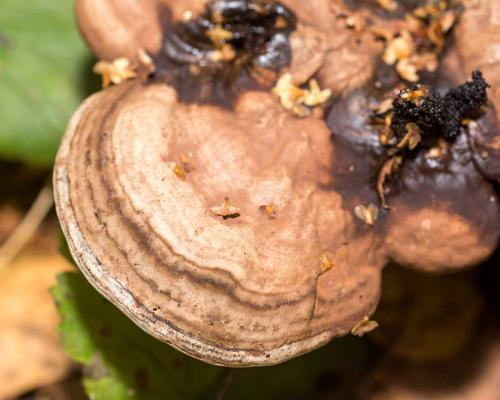Ganoderma - Fruit Body: (46, 86, 389, 370)
